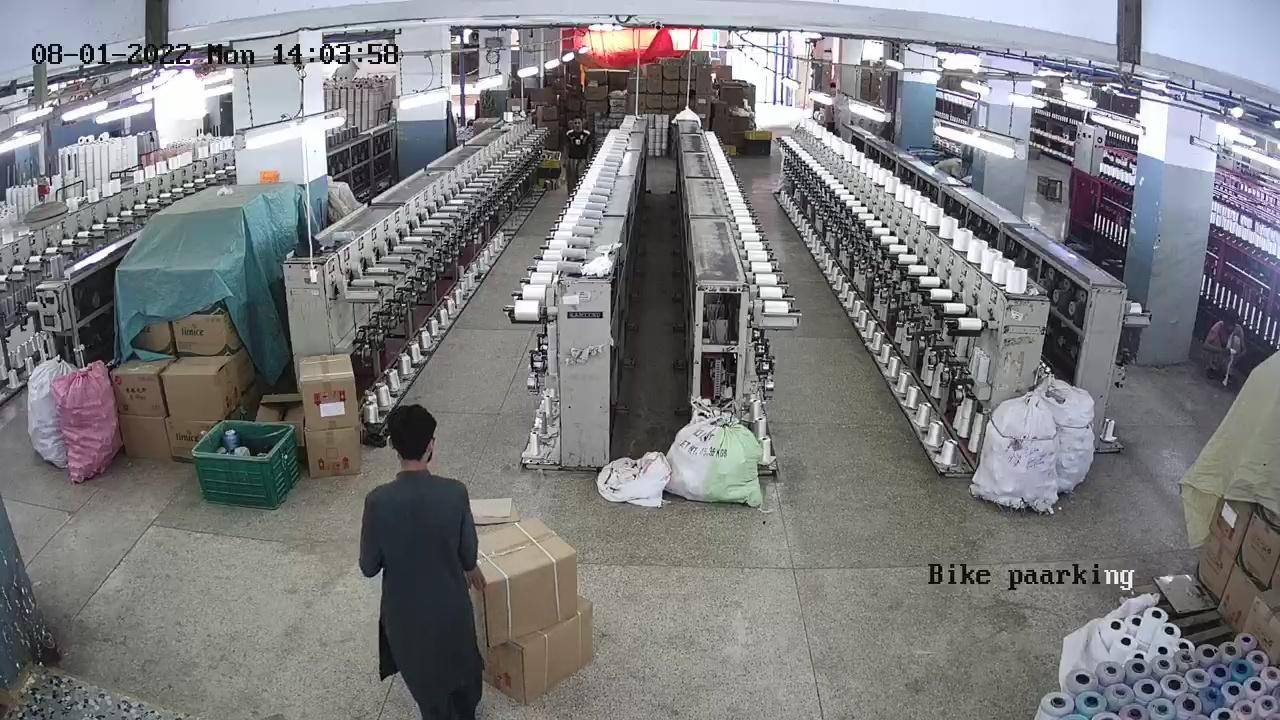person: (377, 408, 494, 718), (561, 113, 590, 178)
